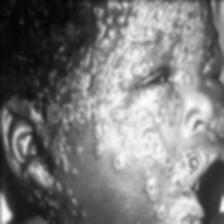Toxin: (99, 134, 196, 224), (108, 0, 217, 55), (76, 42, 116, 96)
